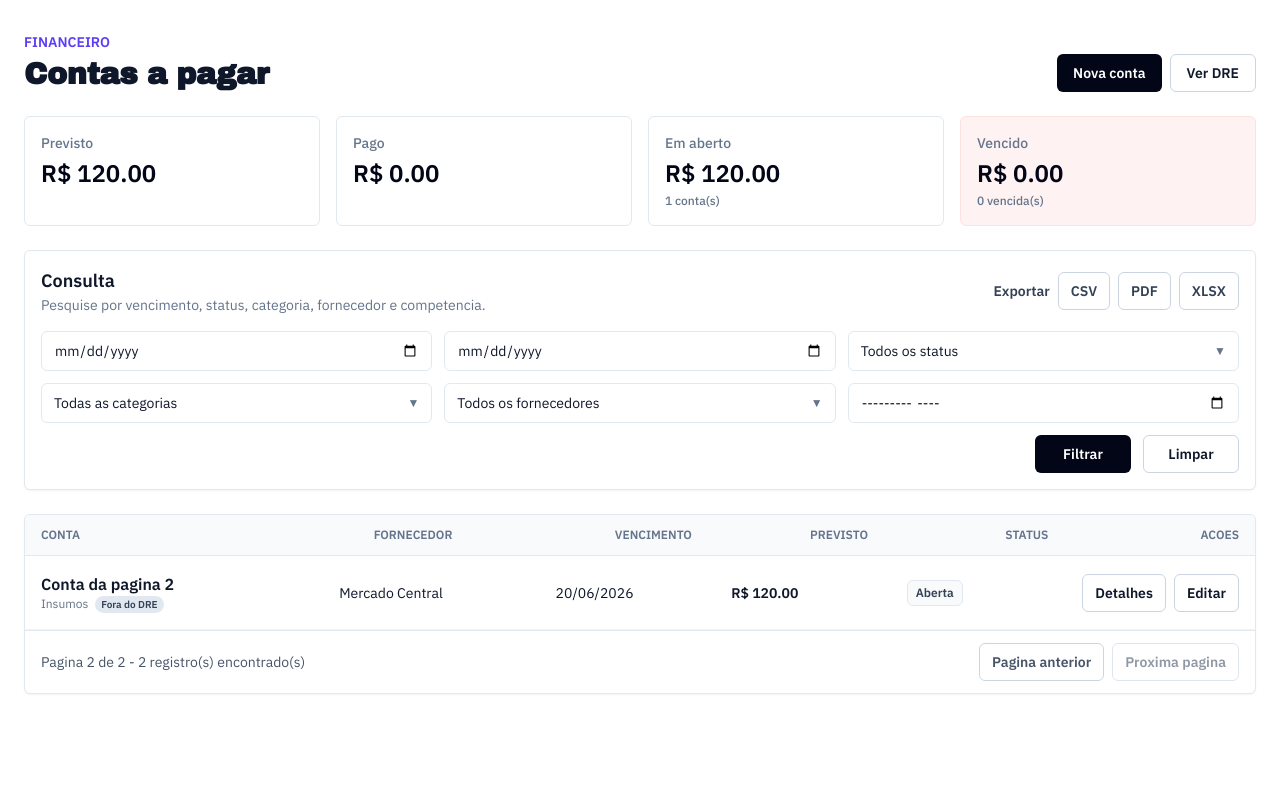
PayablesClient filters › navigates to the previous page
Click the button "Pagina anterior" at {"x": 1042, "y": 662}, box [979, 643, 1104, 681]
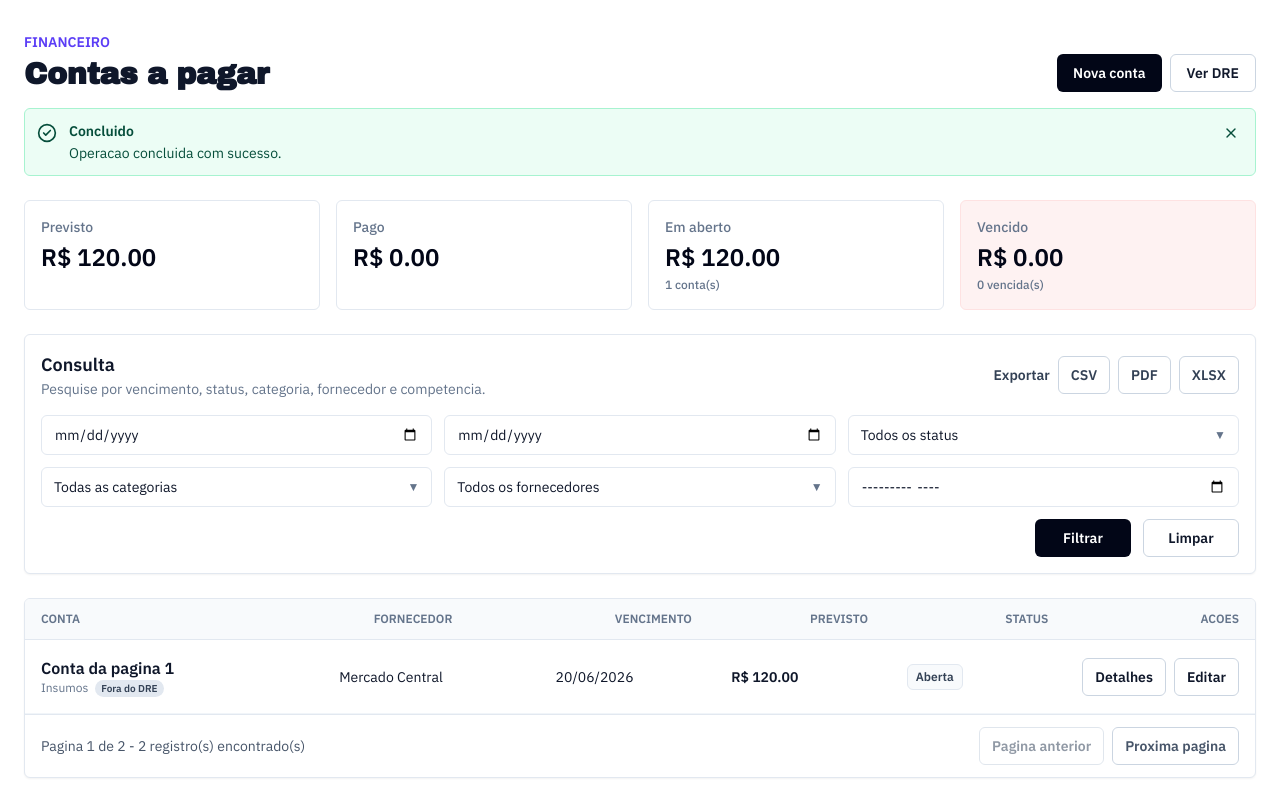
Now the text "Conta da pagina 1" is shown, box [41, 658, 174, 678]
